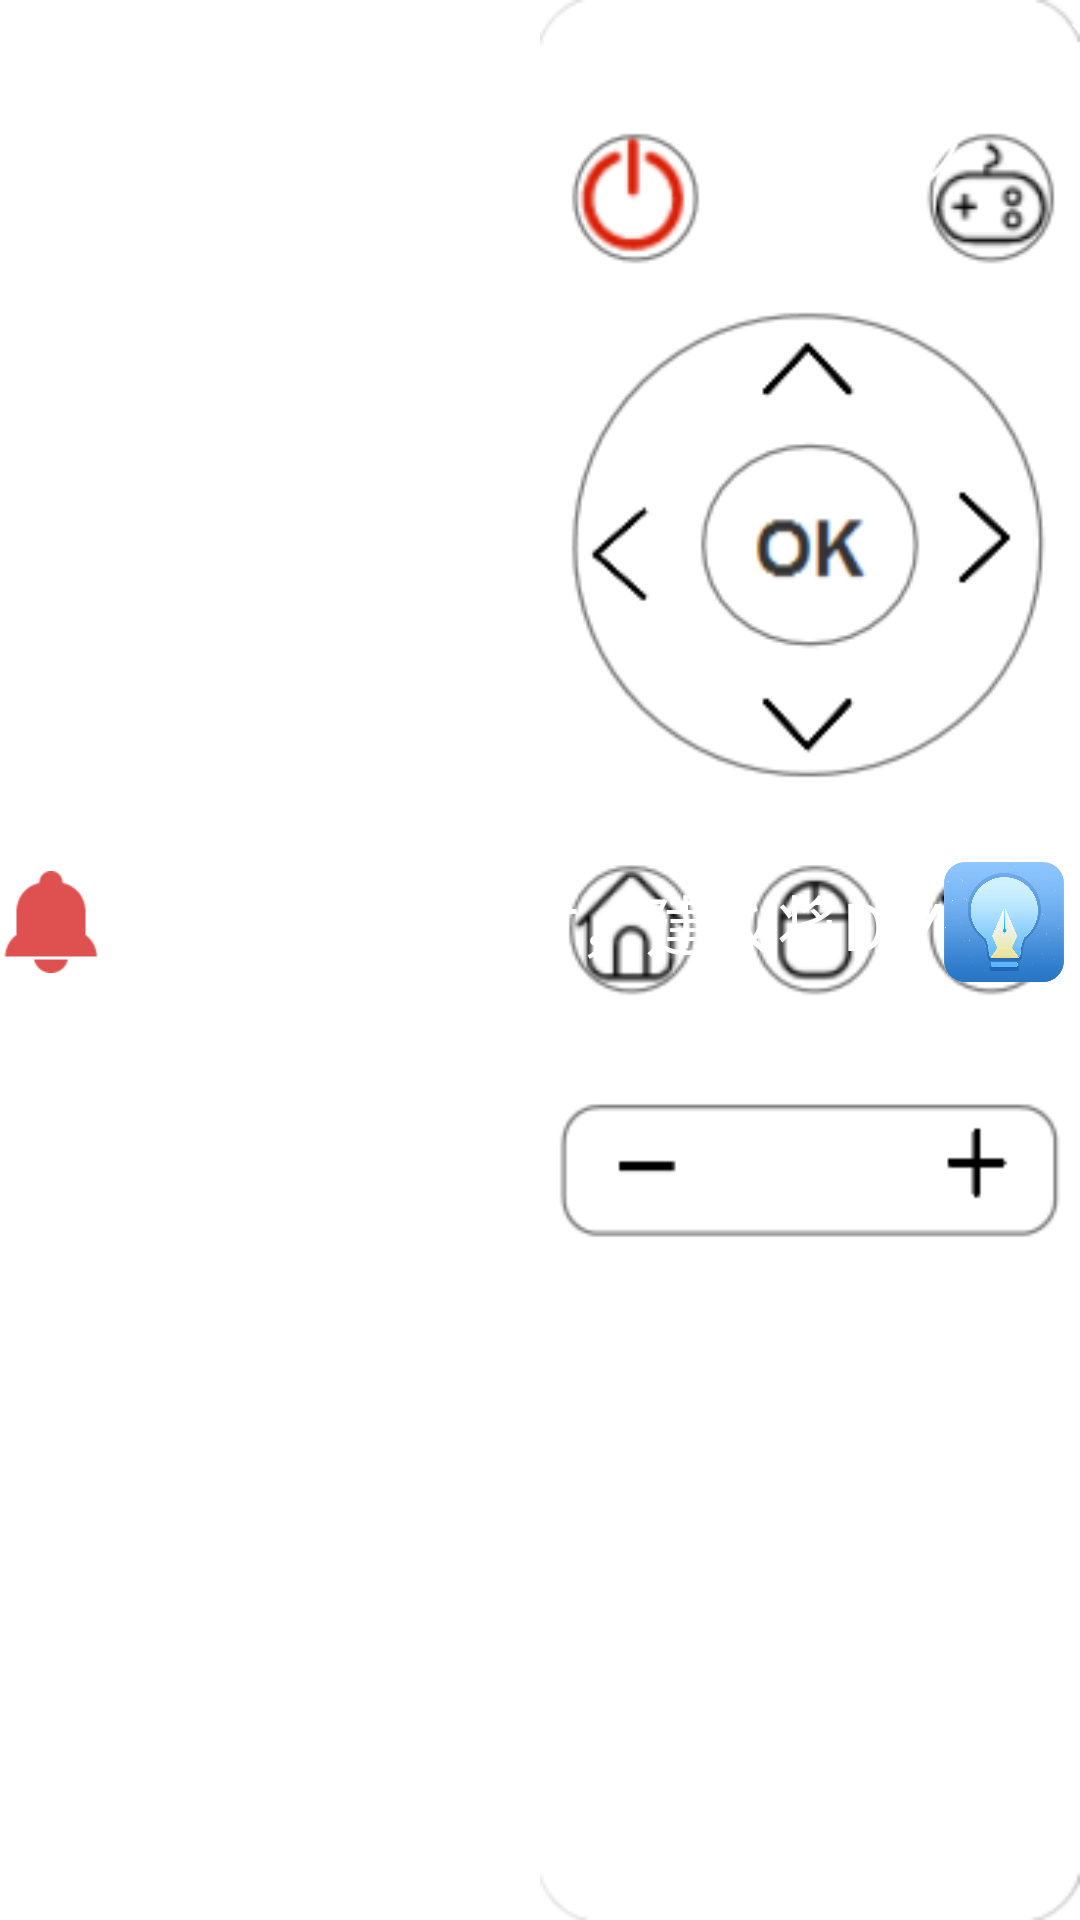

Icon click points for this 1080px×1920px phone screenshot, format point (x, y):
diy: point (1004, 922)
help remind: point (51, 922)
